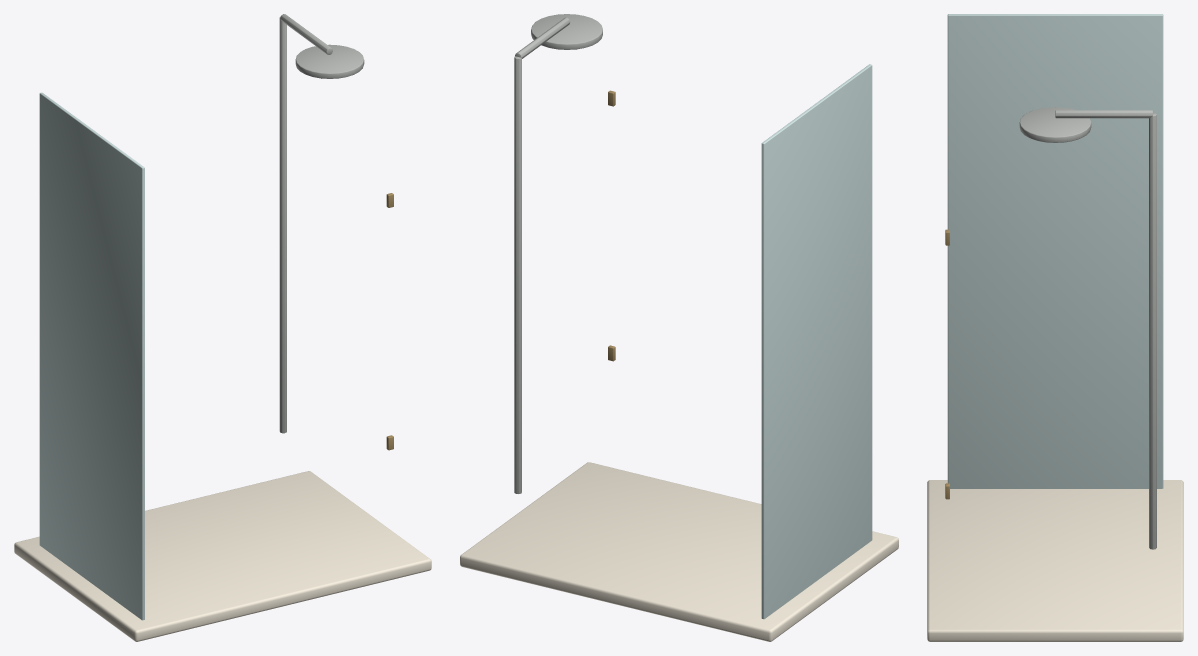
File: shower-wetroom.glb
The picture shows the model from 3 angles, left to right: view 1: azimuth 30°, elevation 25°; view 2: azimuth 150°, elevation 25°; view 3: azimuth 270°, elevation 25°; orthographic projection. The views are drawn at different scales.
Parts seen in each view (by area): view 1: shower-wetroom; view 2: shower-wetroom; view 3: shower-wetroom.
Boxes of the visible parts, x1,y1,x2,y2 form: shower-wetroom: (14, 14, 431, 641); shower-wetroom: (460, 14, 898, 641); shower-wetroom: (927, 14, 1183, 641).
Size of the model in its own units: 1.4 by 2.2 by 1.
